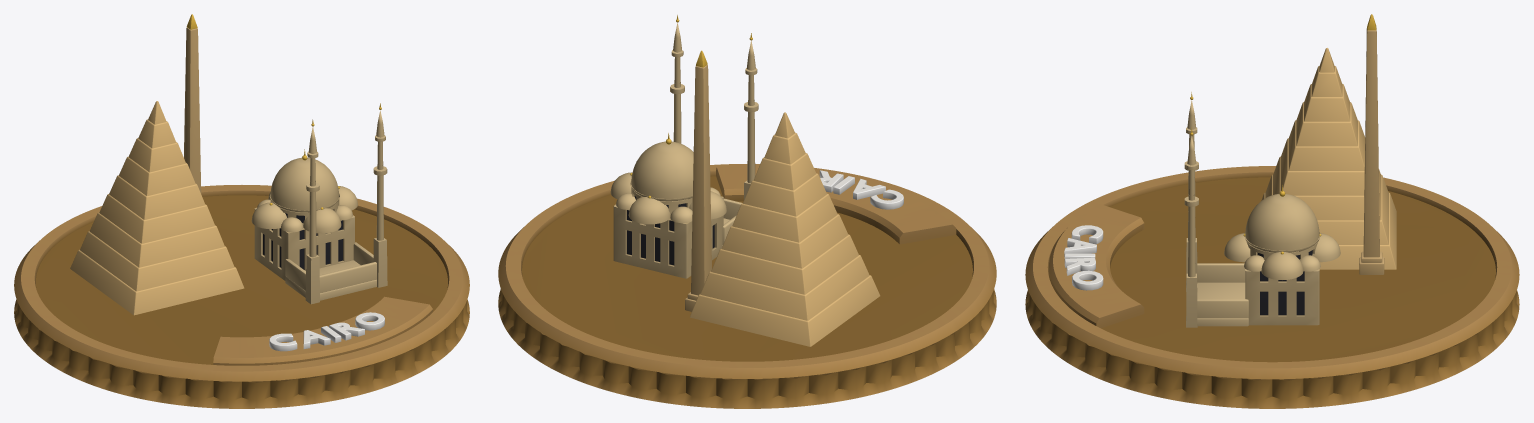
The model's file is city_bundle_cairo.glb.
3 views of the same model, side by side, from view 1: azimuth 30°, elevation 25°; view 2: azimuth 150°, elevation 25°; view 3: azimuth 270°, elevation 25° (orthographic). The views are drawn at different scales.
Parts seen in each view (by area): view 1: Plinth_Body, Pyramid_Sandstone, Mosque_Stone, Plinth_Nameplate, Mosque_Domes, Mosque_Minarets, Obelisk_Granite, Plinth_Text_CAIRO; view 2: Plinth_Body, Pyramid_Sandstone, Mosque_Stone, Mosque_Domes, Plinth_Nameplate, Obelisk_Granite, Mosque_Minarets, Plinth_Text_CAIRO; view 3: Plinth_Body, Pyramid_Sandstone, Mosque_Stone, Mosque_Domes, Plinth_Nameplate, Obelisk_Granite, Mosque_Minarets, Plinth_Text_CAIRO.
Part boxes in pixels (x1,y1,x2,y2): Plinth_Body: (14,185,469,408); Pyramid_Sandstone: (70,101,244,315); Mosque_Stone: (254,193,376,300); Plinth_Nameplate: (213,296,432,365); Mosque_Domes: (251,149,357,233); Mosque_Minarets: (305,103,387,304); Obelisk_Granite: (184,14,201,193); Plinth_Text_CAIRO: (269,312,384,351); Plinth_Body: (498,164,996,408); Pyramid_Sandstone: (690,112,880,346); Mosque_Stone: (613,181,741,278); Mosque_Domes: (610,133,726,224); Plinth_Nameplate: (716,166,956,244); Obelisk_Granite: (685,50,711,311); Mosque_Minarets: (670,15,758,199); Plinth_Text_CAIRO: (819,170,903,209); Plinth_Body: (1025,166,1519,408); Pyramid_Sandstone: (1261,48,1396,269); Mosque_Stone: (1197,232,1320,326); Mosque_Domes: (1224,185,1340,279); Plinth_Nameplate: (1049,204,1144,328); Obelisk_Granite: (1359,14,1384,274); Mosque_Minarets: (1184,92,1198,327); Plinth_Text_CAIRO: (1064,225,1103,290).
Bounding box in the file's own units: 1.99 × 1.3 × 1.99.
